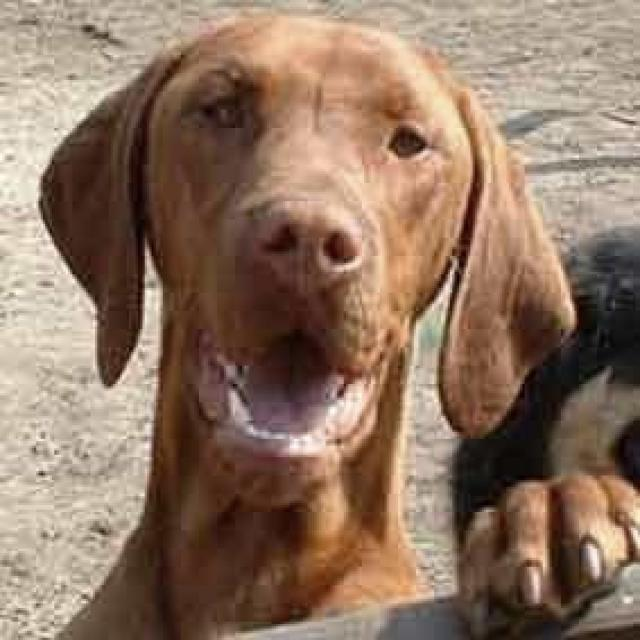vizsla: (36, 16, 638, 638)
